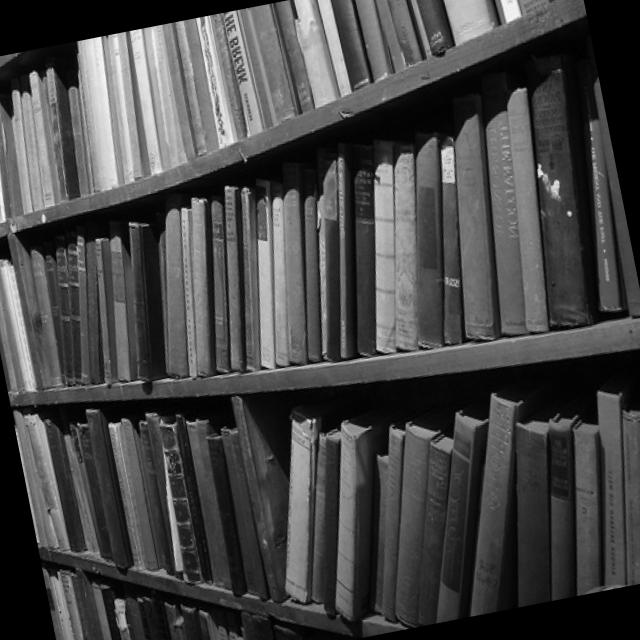book case: (525, 51, 602, 327), (287, 387, 370, 602)
books crop: (130, 84, 550, 380), (313, 364, 640, 625), (70, 404, 268, 595), (29, 219, 135, 387), (0, 63, 96, 220), (589, 75, 640, 315), (17, 409, 86, 551), (0, 257, 35, 389)
books occluded: (78, 0, 547, 189), (95, 577, 245, 640), (47, 565, 90, 640)
